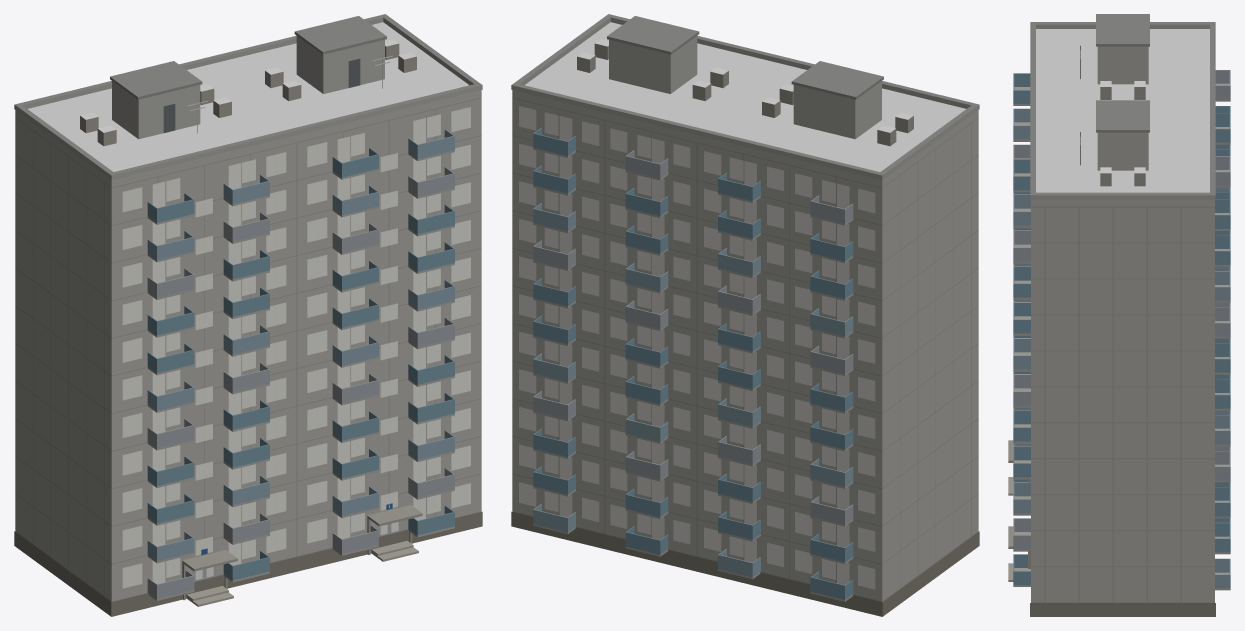
The model's file is blok-p10.pbr.glb.
3 views of the same model, side by side, from view 1: azimuth 30°, elevation 25°; view 2: azimuth 150°, elevation 25°; view 3: azimuth 270°, elevation 25° (orthographic). The views are drawn at different scales.
Visible parts, largest first — view 1: blok-p10; view 2: blok-p10; view 3: blok-p10.
Boxes of the visible parts, bbox=[...] form: blok-p10: bbox=[14, 14, 482, 616]; blok-p10: bbox=[511, 14, 979, 616]; blok-p10: bbox=[1008, 14, 1230, 616].
Bounding box in the file's own units: 28.92 × 35.7 × 15.7.
